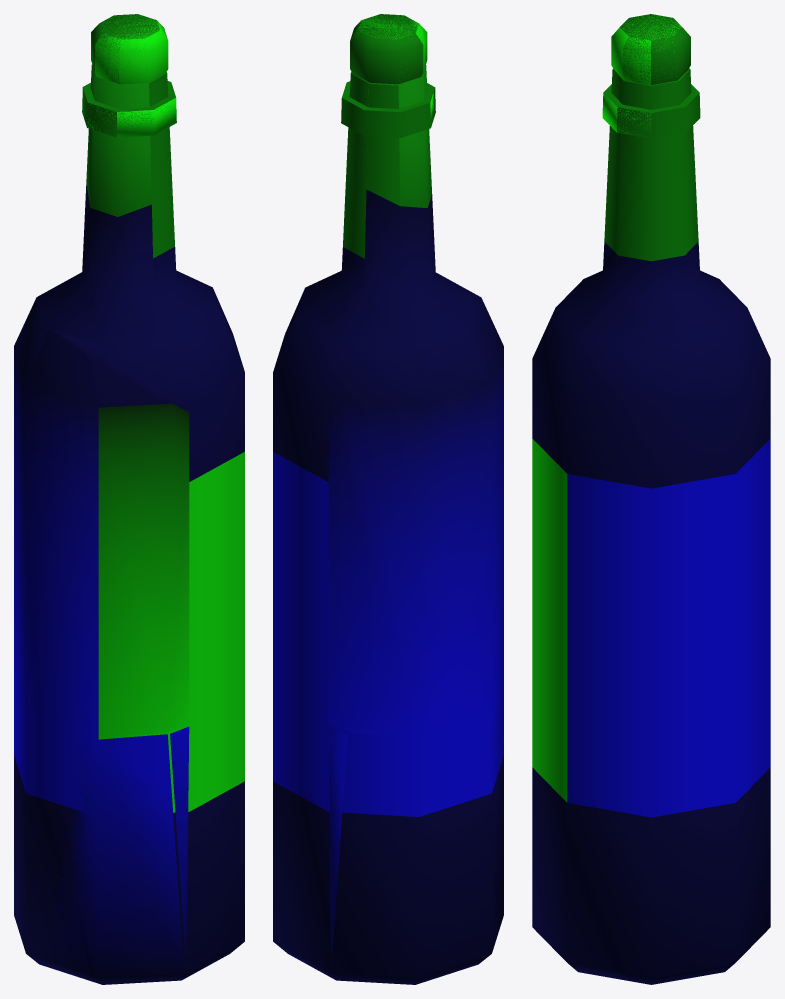
3 renders of one model, left to right at view 1: azimuth 30°, elevation 25°; view 2: azimuth 150°, elevation 25°; view 3: azimuth 270°, elevation 25°, orthographic.
Parts seen in each view (by area): view 1: Plane.745, Plane.745_cell.003, Plane.745_cell.004, Plane.745_cell, Plane.745_cell.002, Plane.750, Plane.745_cell.001, Plane.745_cell.005; view 2: Plane.745, Plane.745_cell.003, Plane.745_cell, Plane.745_cell.002, Plane.745_cell.001, Plane.745_cell.004, Plane.750; view 3: Plane.745, Plane.750, Plane.745_cell.001, Plane.745_cell.005.
Part boxes in pixels (<box>): Plane.745: <box>14,14,244,980</box>; Plane.745_cell.003: <box>14,311,189,737</box>; Plane.745_cell.004: <box>26,731,183,984</box>; Plane.745_cell: <box>31,184,189,409</box>; Plane.745_cell.002: <box>86,64,166,214</box>; Plane.750: <box>95,14,168,84</box>; Plane.745_cell.001: <box>170,726,189,968</box>; Plane.745_cell.005: <box>87,98,176,137</box>; Plane.745: <box>273,14,503,980</box>; Plane.745_cell.003: <box>328,311,503,737</box>; Plane.745_cell: <box>328,189,486,409</box>; Plane.745_cell.002: <box>351,65,431,205</box>; Plane.745_cell.001: <box>328,726,347,971</box>; Plane.745_cell.004: <box>334,678,503,984</box>; Plane.750: <box>359,14,427,80</box>; Plane.745: <box>532,14,770,977</box>; Plane.750: <box>611,14,681,84</box>; Plane.745_cell.001: <box>568,963,734,984</box>; Plane.745_cell.005: <box>602,93,651,138</box>.
Size of the model in its own units: 0.1975 by 0.835 by 0.1975.
